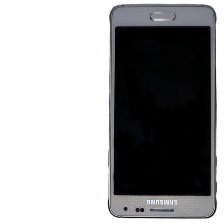phone: (102, 1, 219, 221)
